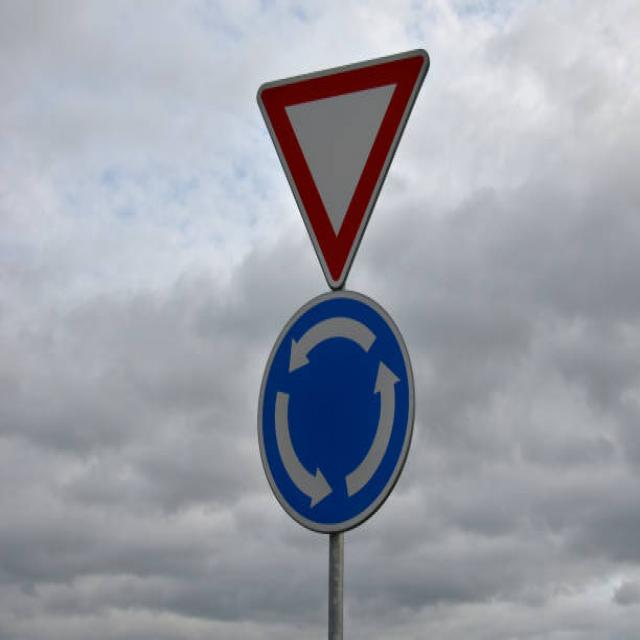give_way: (257, 45, 436, 296)
